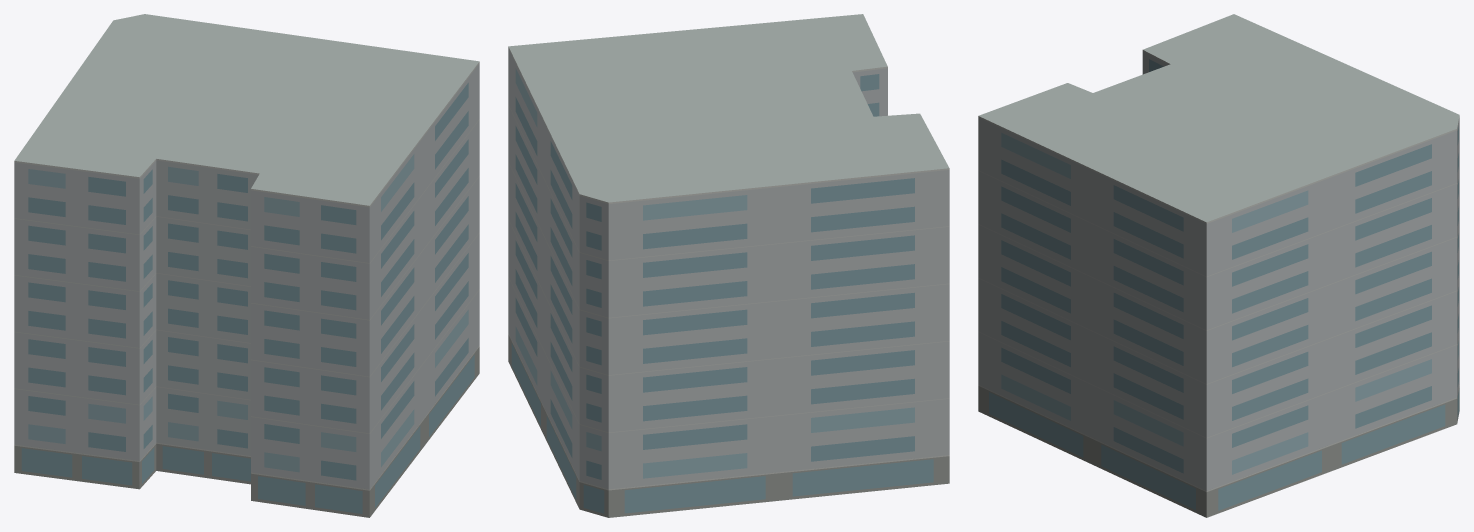
The model's file is survey-upis-32939679.glb.
3 renders of one model, left to right at view 1: azimuth 30°, elevation 25°; view 2: azimuth 150°, elevation 25°; view 3: azimuth 270°, elevation 25°, orthographic. The views are drawn at different scales.
Visible parts, largest first — view 1: survey-upis-32939679.tmp; view 2: survey-upis-32939679.tmp; view 3: survey-upis-32939679.tmp.
Part boxes in pixels (bbox=[...]): survey-upis-32939679.tmp: bbox=[14, 14, 479, 517]; survey-upis-32939679.tmp: bbox=[508, 14, 949, 517]; survey-upis-32939679.tmp: bbox=[978, 14, 1459, 517].
Size of the model in its own units: 70.18 by 46.4 by 68.52.
